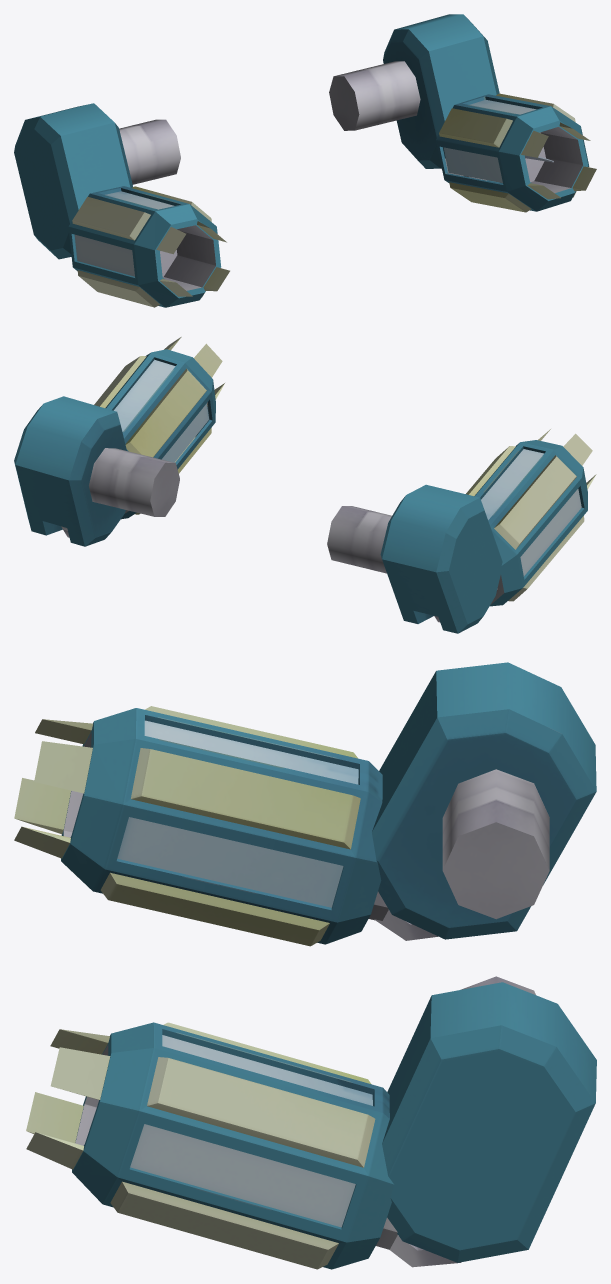
Rendered from player_arm_attack2.obj.
3 views of the same model, one above another, from view 1: azimuth 30°, elevation 25°; view 2: azimuth 150°, elevation 25°; view 3: azimuth 270°, elevation 25° (orthographic). The views are drawn at different scales.
Parts seen in each view (by area): view 1: Object009, Object010, Object007, Object008, Object005, Object006; view 2: Object007, Object009, Object008, Object010, Object005, Object006; view 3: Object009, Object010, Object008, Object007, Object006.
Boxes of the visible parts, x1=… form: Object009: x1=68, y1=186, x2=229, y2=307; Object010: x1=436, y1=93, x2=596, y2=212; Object007: x1=14, y1=103, x2=132, y2=259; Object008: x1=383, y1=14, x2=499, y2=168; Object005: x1=329, y1=61, x2=420, y2=130; Object006: x1=119, y1=119, x2=180, y2=184; Object007: x1=380, y1=484, x2=502, y2=633; Object009: x1=434, y1=429, x2=596, y2=622; Object008: x1=14, y1=396, x2=126, y2=546; Object010: x1=61, y1=337, x2=224, y2=537; Object005: x1=89, y1=448, x2=179, y2=516; Object006: x1=327, y1=506, x2=391, y2=573; Object009: x1=14, y1=706, x2=437, y2=946; Object010: x1=26, y1=1022, x2=460, y2=1269; Object008: x1=382, y1=982, x2=596, y2=1262; Object007: x1=372, y1=662, x2=596, y2=939; Object006: x1=442, y1=769, x2=549, y2=919.
Bounding box in the file's own units: 176 × 52.92 × 110.
2 materials, 1 textured.
